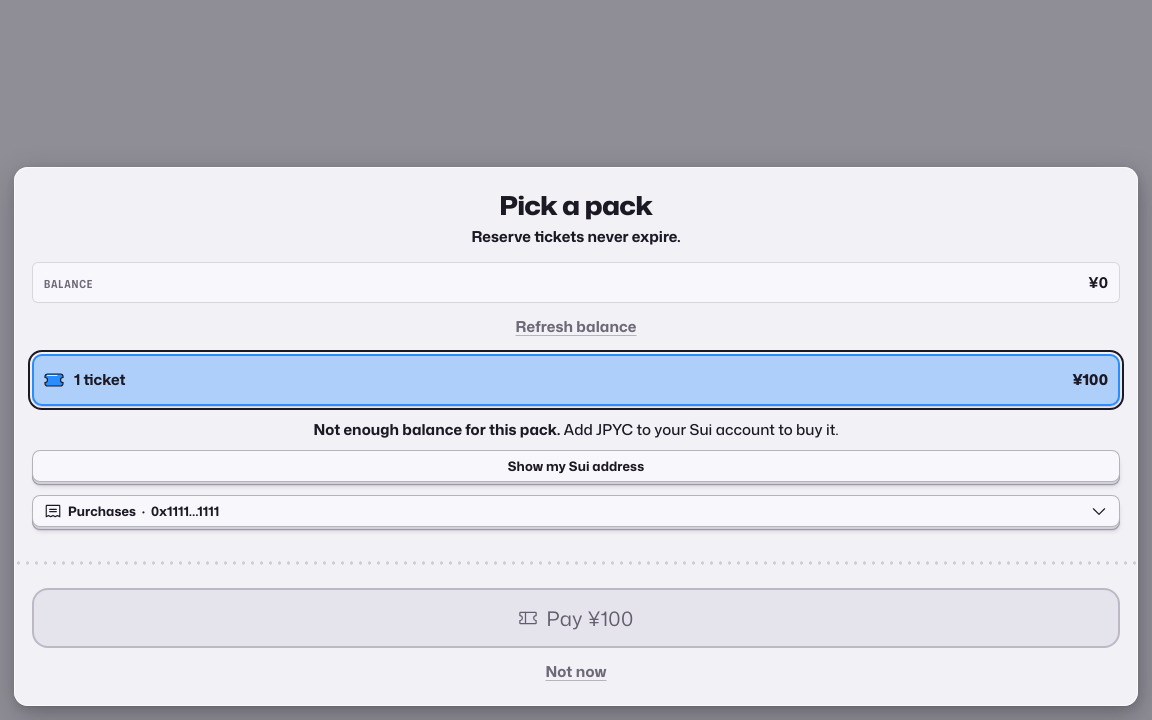
Test: the open reserve ticket checkout › offers an explicit Refresh balance control without leaving the payment step
Click the button "Refresh balance" at {"x": 576, "y": 327}, box [514,311,638,343]
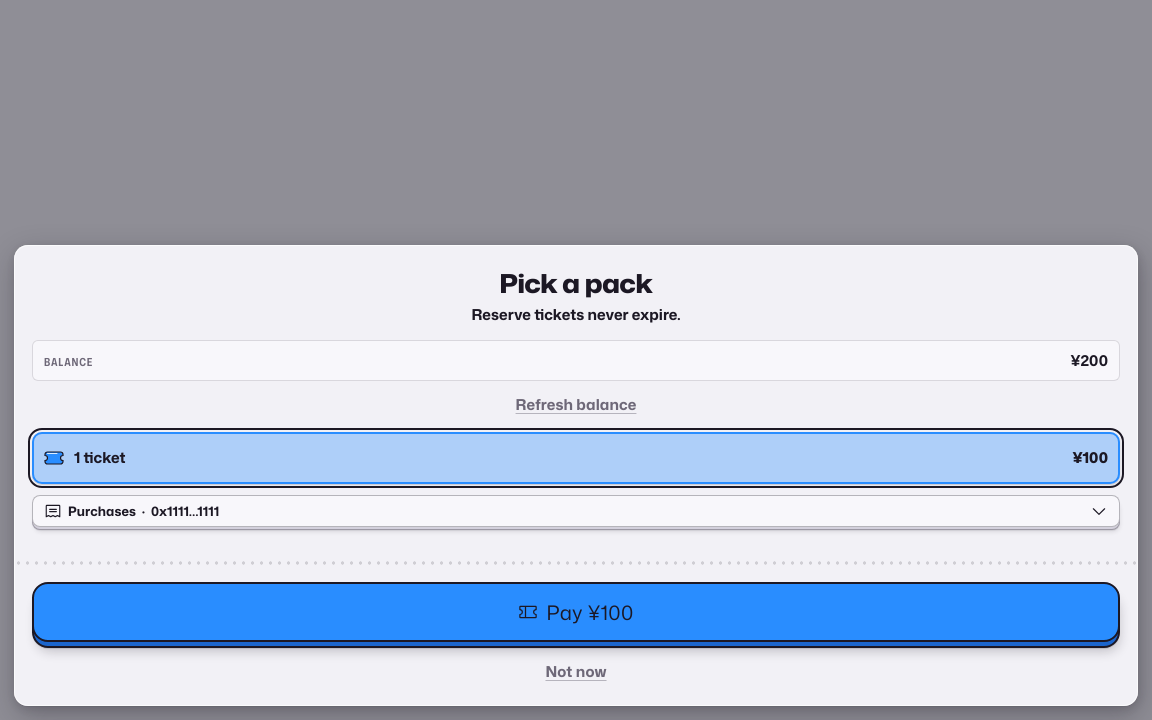
Expected: the heading "Pick a pack" is shown, [500,265,652,301]
Expected: the button "Pay ¥100" is enabled, [32,582,1120,648]
